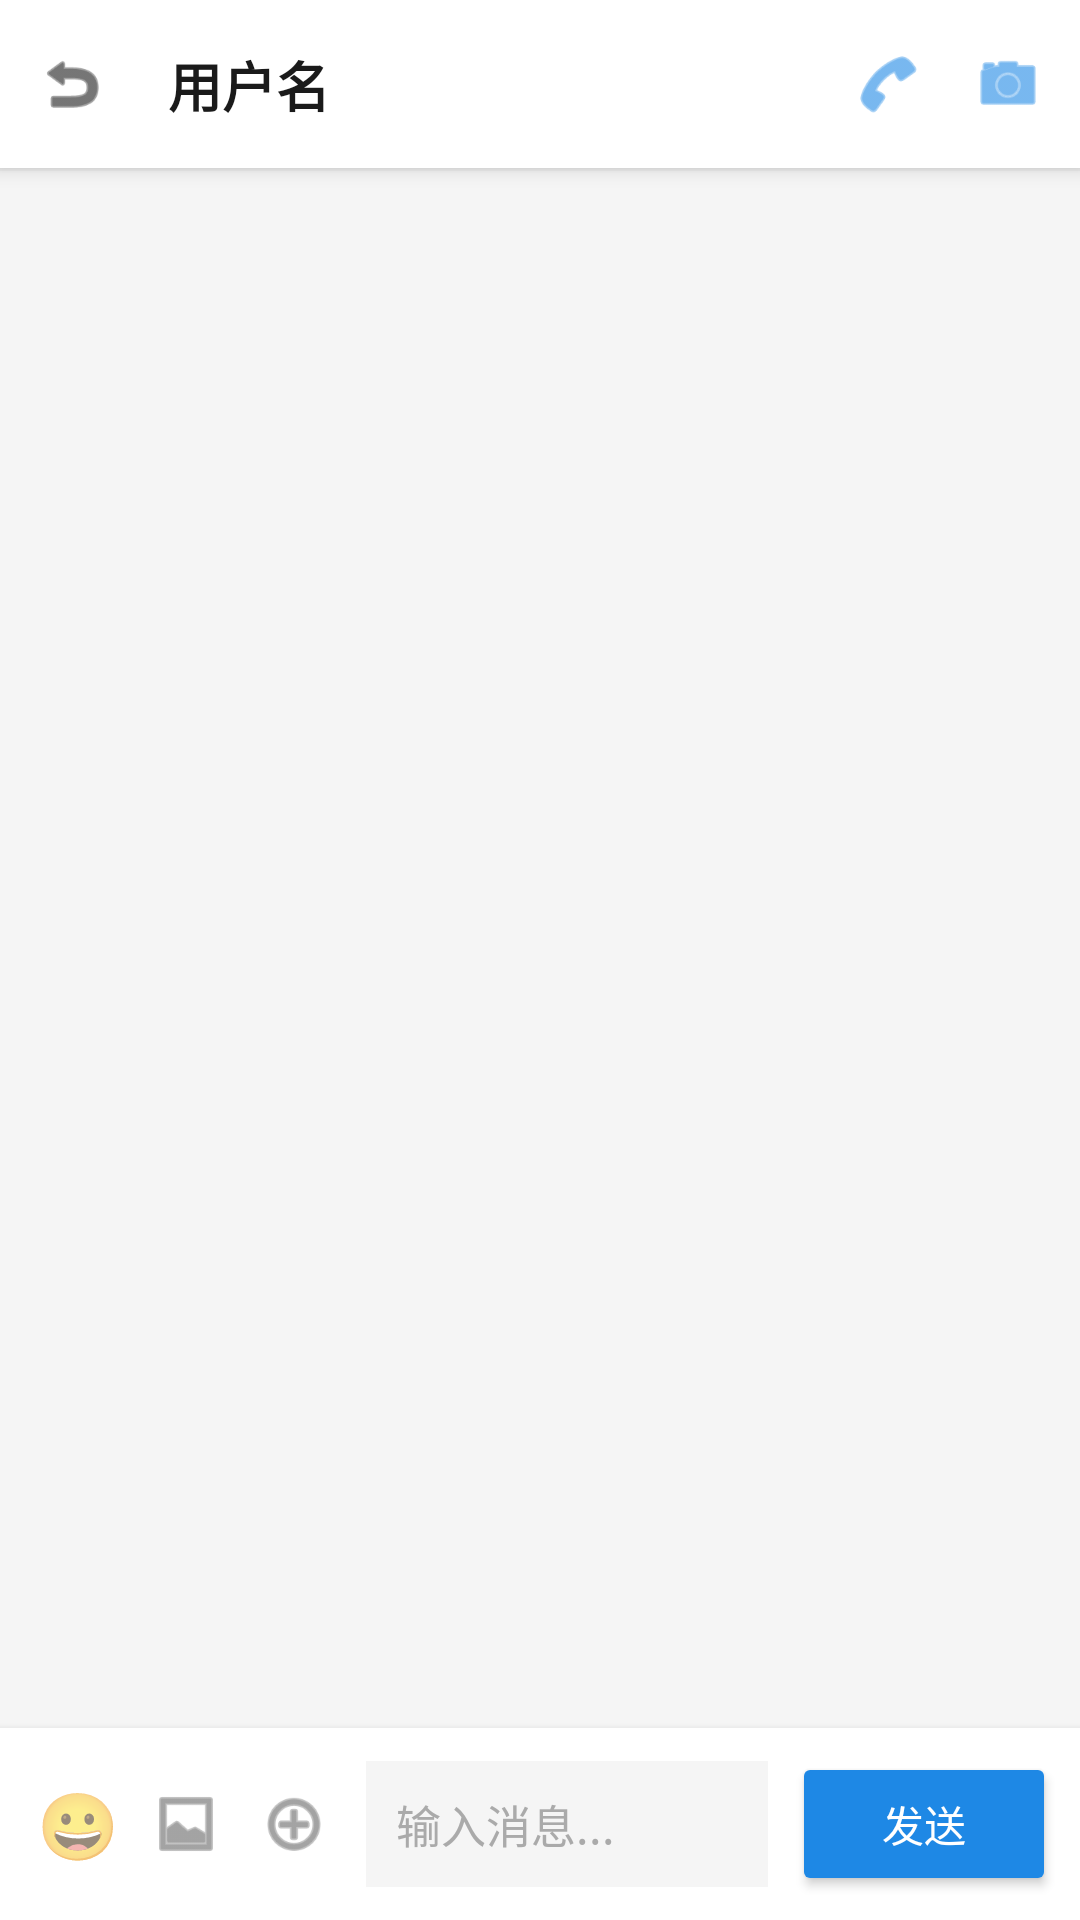

Locate icon controls on the screen. Image size 1080x1920, boxes as (x1, y1, x2, y2).
add: (267, 1798, 321, 1851)
call: (860, 56, 917, 113)
camera: (980, 61, 1036, 105)
gallery: (159, 1797, 213, 1851)
revert: (47, 61, 99, 108)
